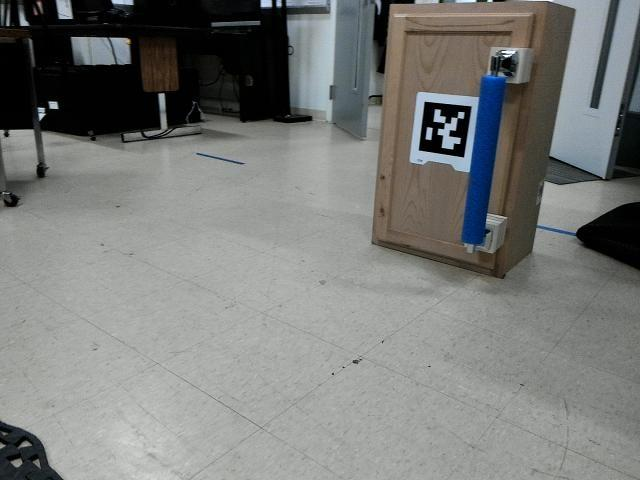noodle_handle: (457, 64, 508, 259)
